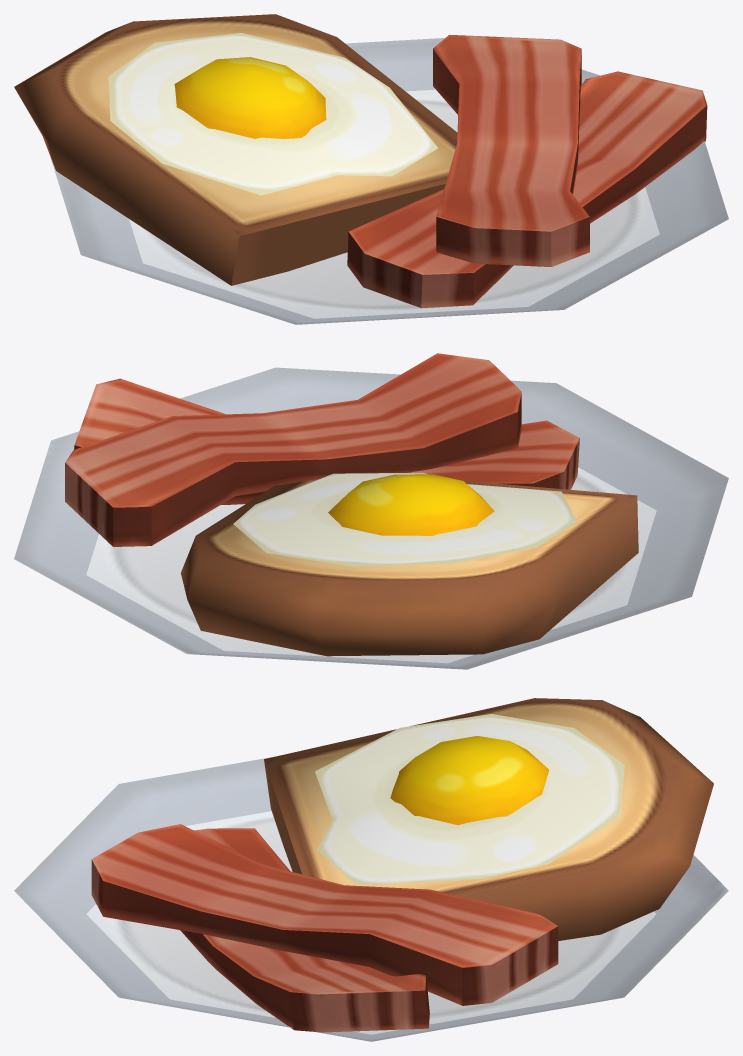
The model's file is bacon and egg.FBX.
The picture shows the model from 3 angles, top to bottom: view 1: azimuth 30°, elevation 25°; view 2: azimuth 150°, elevation 25°; view 3: azimuth 270°, elevation 25°; orthographic projection. The views are drawn at different scales.
Parts seen in each view (by area): view 1: bacon and egg; view 2: bacon and egg; view 3: bacon and egg.
Boxes of the visible parts, x1,y1,x2,y2 form: bacon and egg: [14, 14, 728, 324]; bacon and egg: [14, 353, 728, 669]; bacon and egg: [14, 698, 728, 1041].
Bounding box in the file's own units: 11.05 × 2.56 × 11.05.
